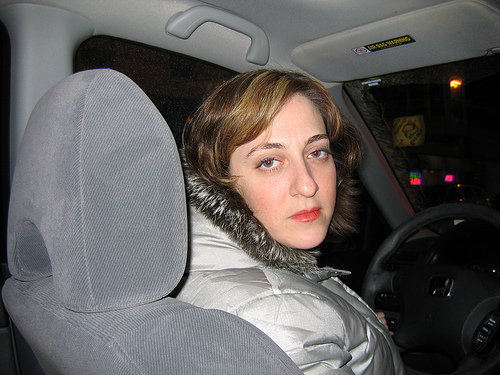without_mask: (203, 72, 369, 262)
